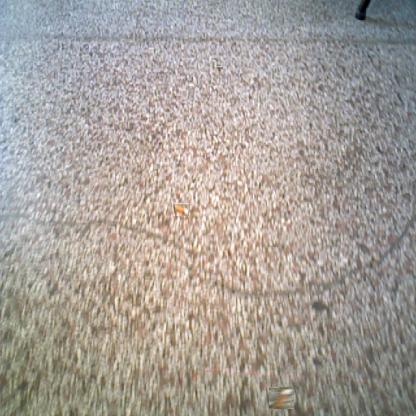dirty: (269, 386, 293, 410), (173, 203, 189, 216), (216, 66, 223, 75)
